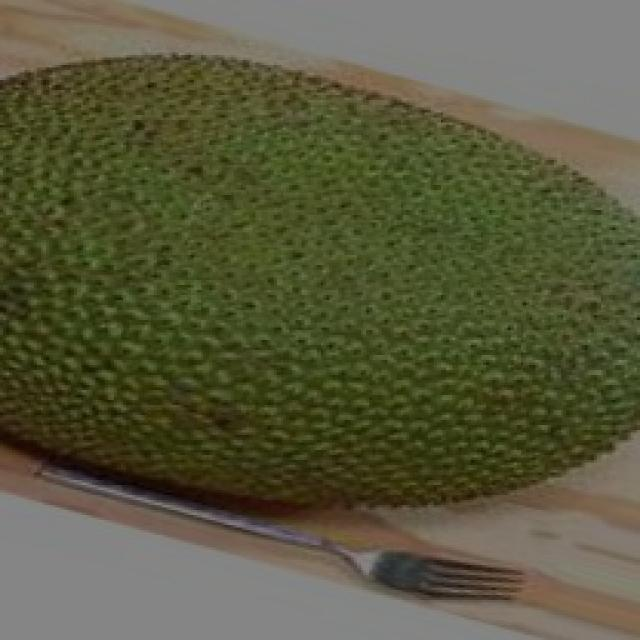Fruit: (261, 12, 640, 372)
